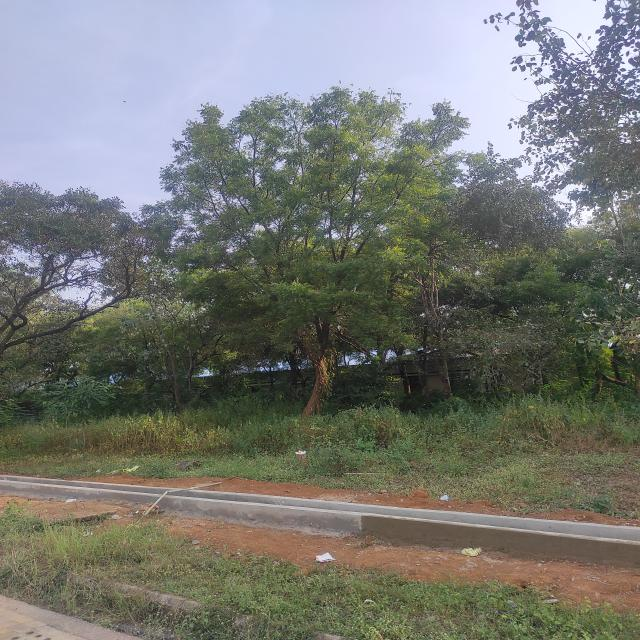Devakanchan tree: (502, 1, 640, 375), (7, 178, 152, 305)
Neem Tree: (180, 82, 460, 350)
